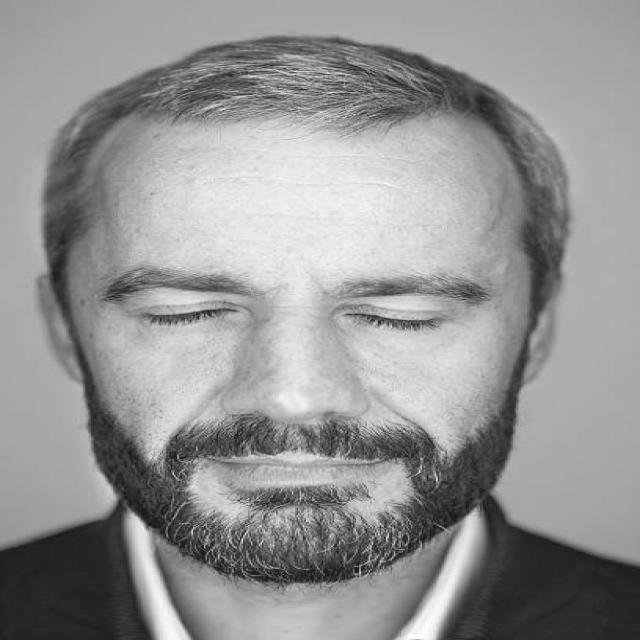real: (34, 30, 570, 591), (81, 261, 509, 352)
